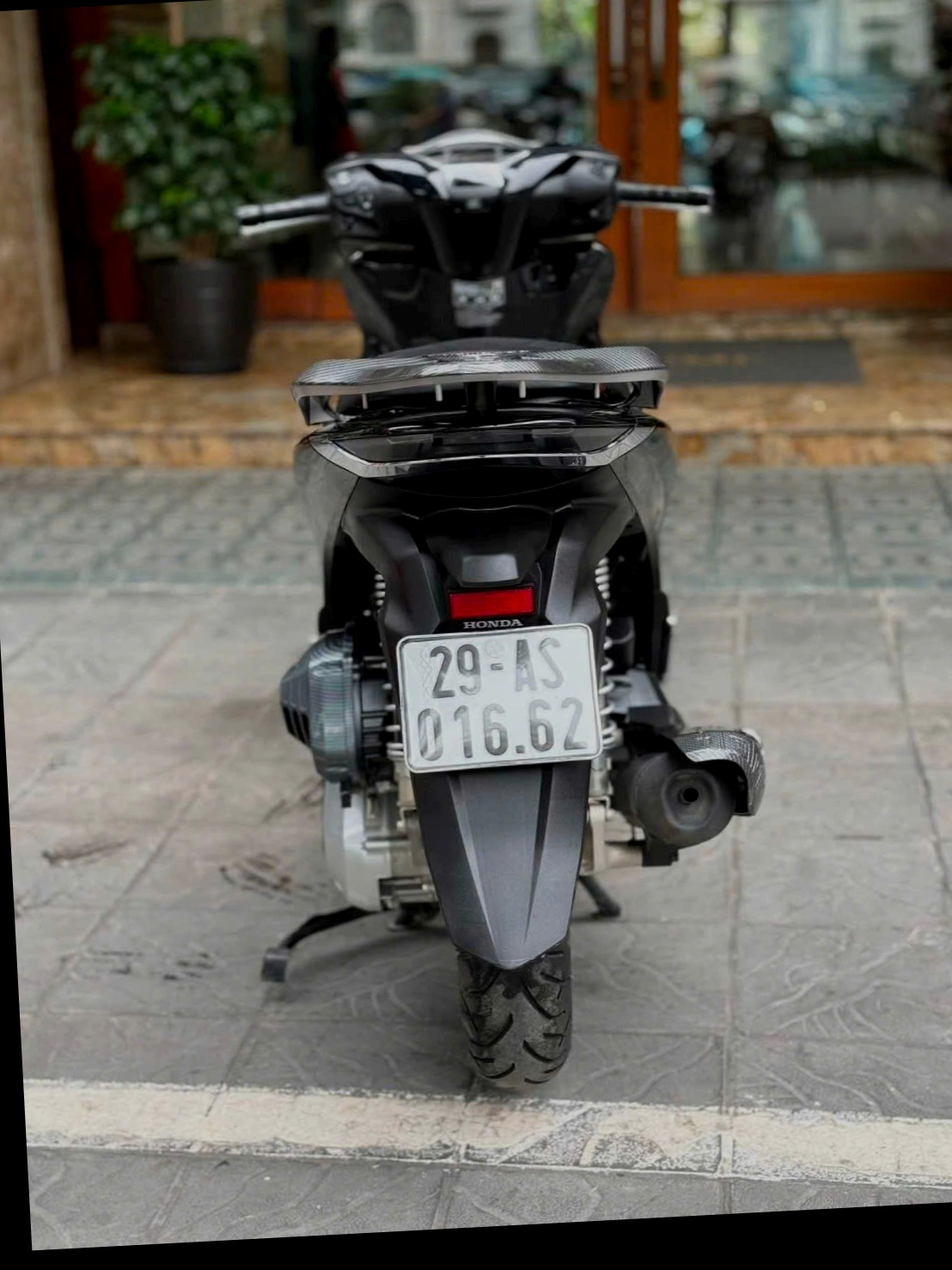Bien-so: (400, 615, 609, 789)
